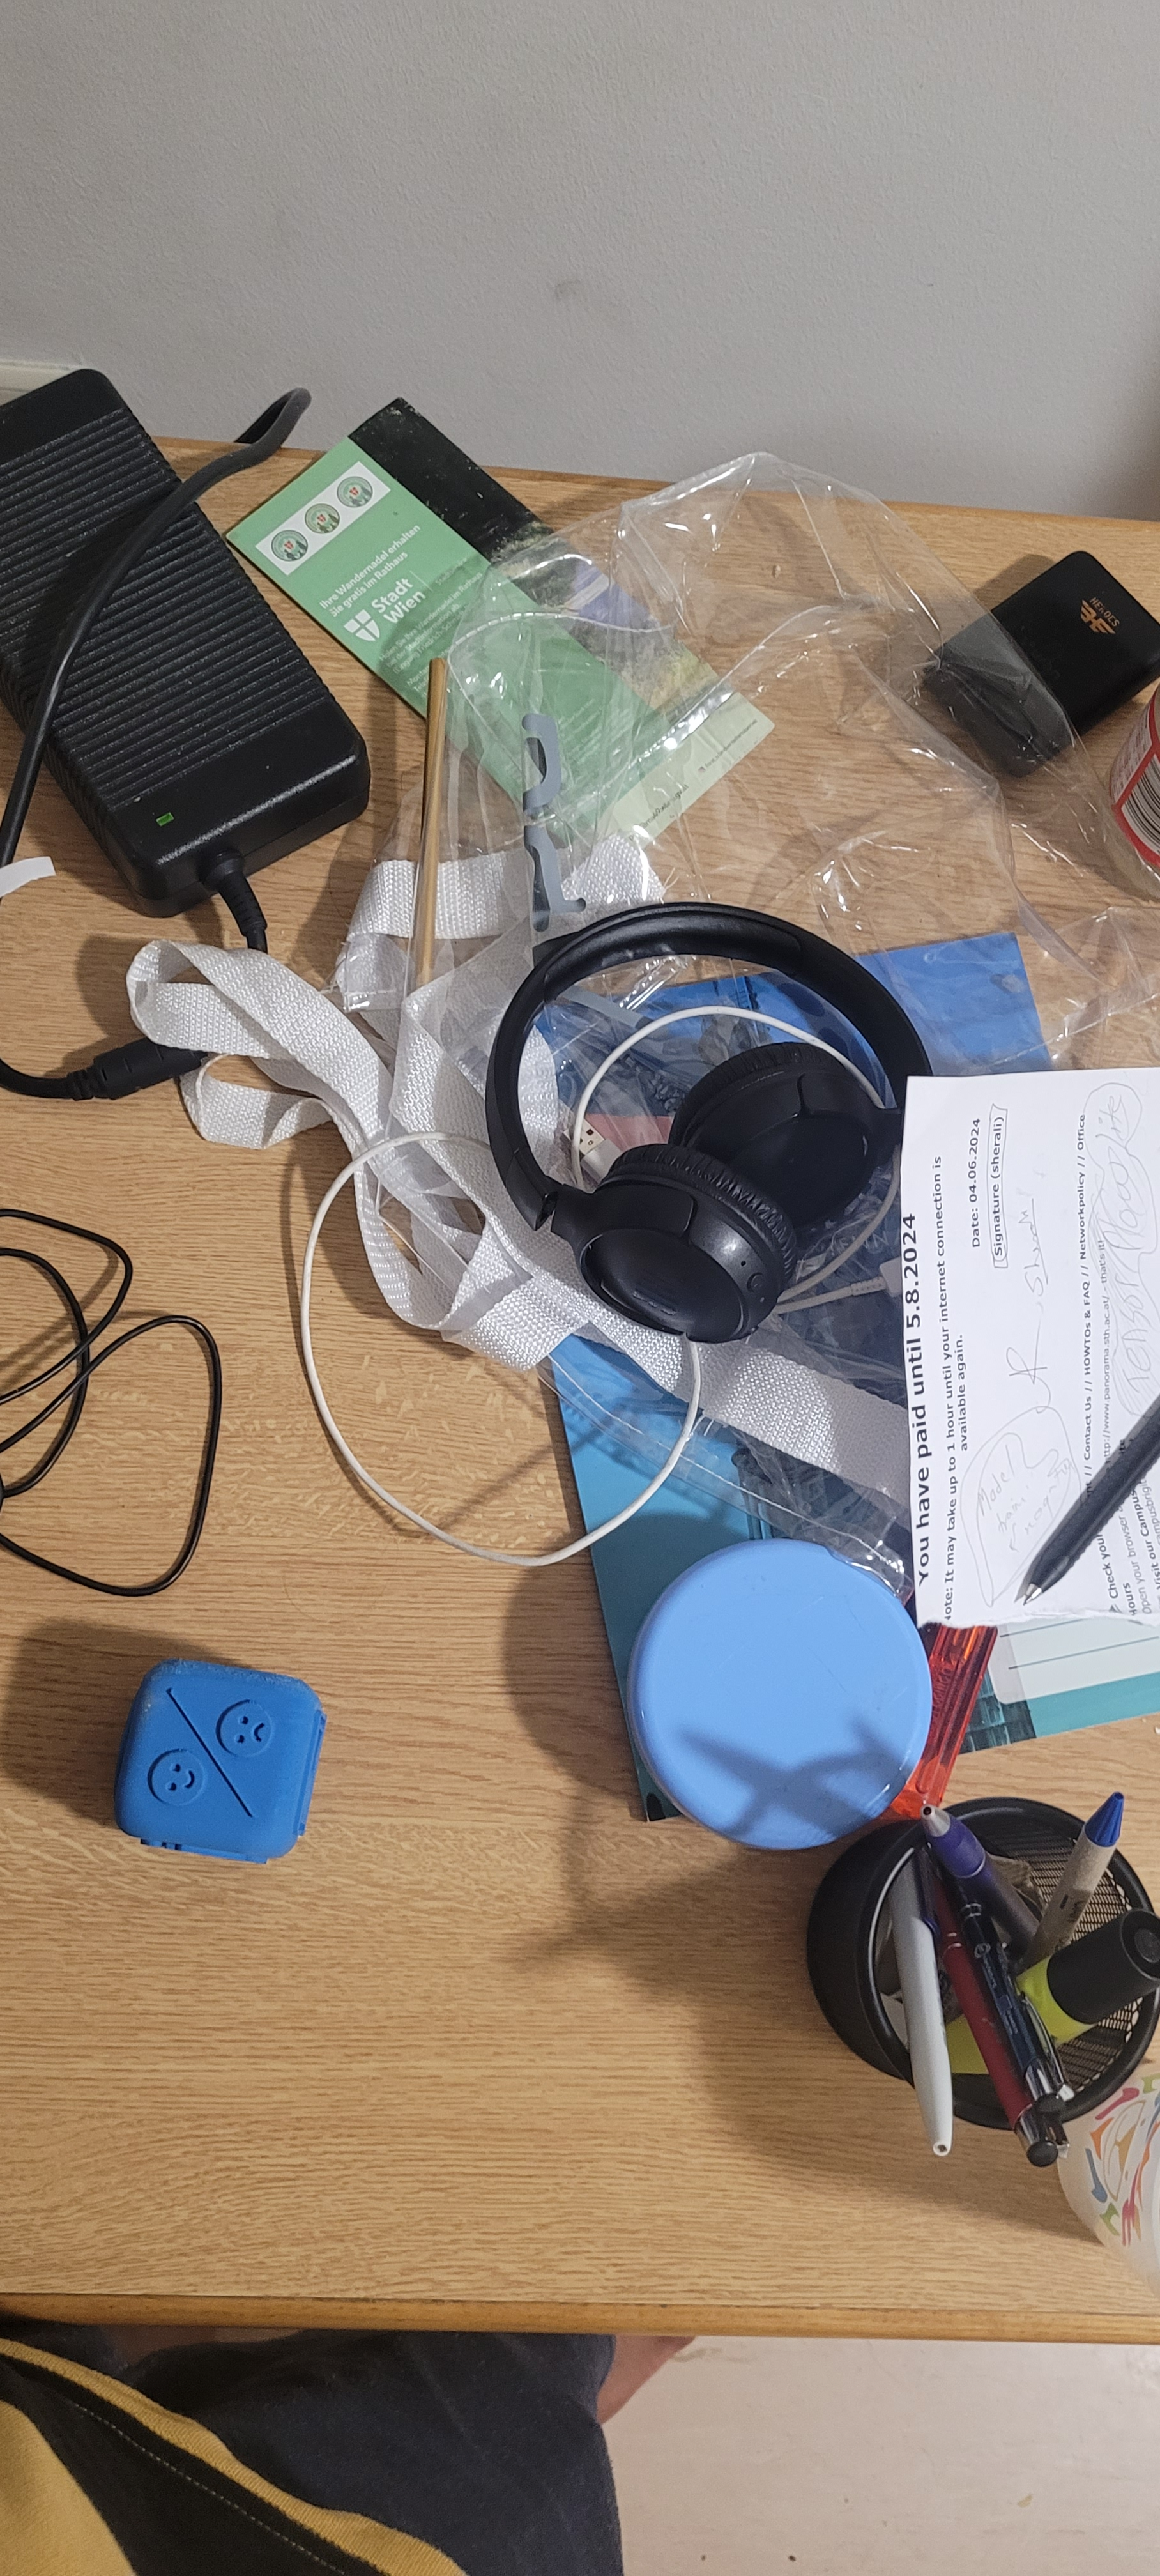Like/Dislike: (145, 1666, 320, 1847)
